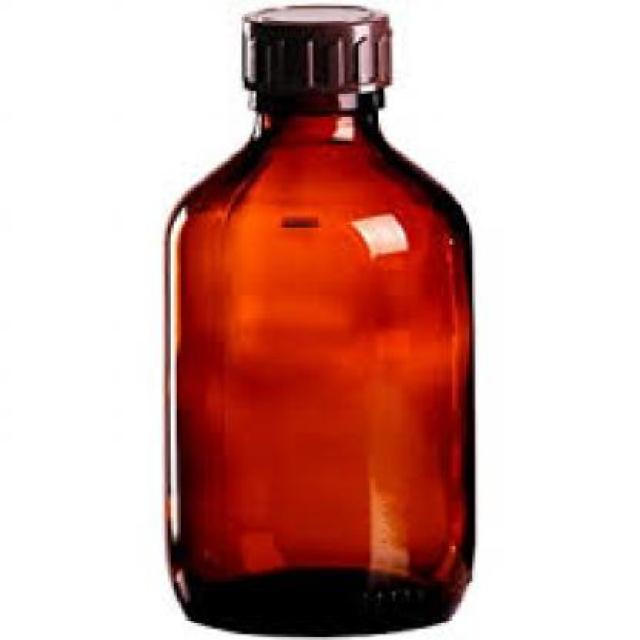kaca: (165, 106, 472, 637)
